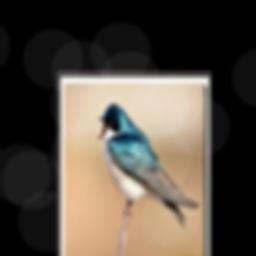Swallow: (94, 100, 200, 229)
